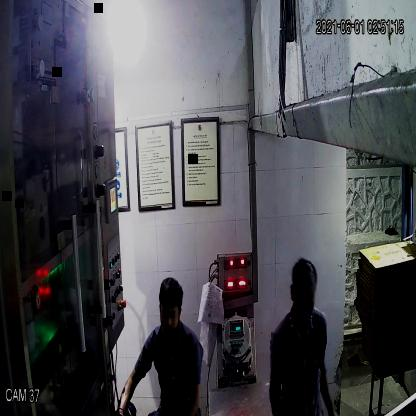no_goggles: (156, 301, 182, 327)
